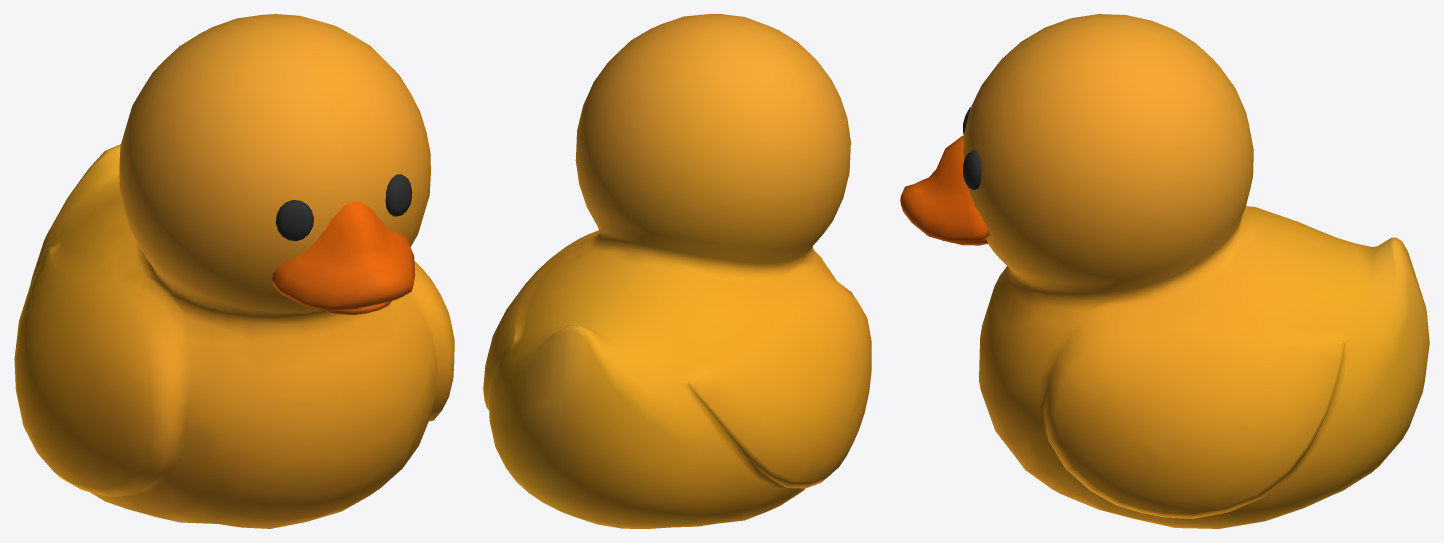
The model's file is duck.glb.
3 views of the same model, side by side, from view 1: azimuth 30°, elevation 25°; view 2: azimuth 150°, elevation 25°; view 3: azimuth 270°, elevation 25° (orthographic). The views are drawn at different scales.
Bounding box in the file's own units: 0.7993 × 1 × 1.04.
1 material, 1 textured.
